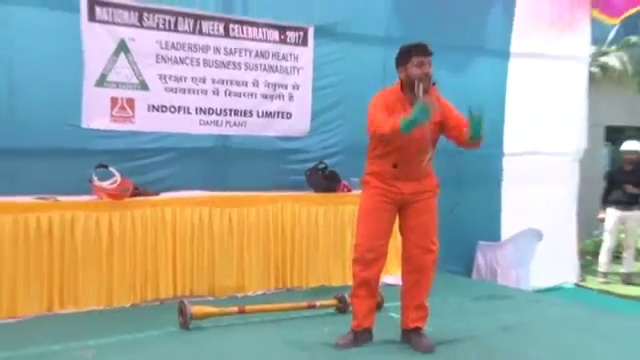helmet: (619, 137, 640, 154)
helmet_off: (394, 43, 437, 93)
helmet_on: (618, 138, 640, 172)
person: (335, 40, 490, 351), (594, 134, 640, 284)
